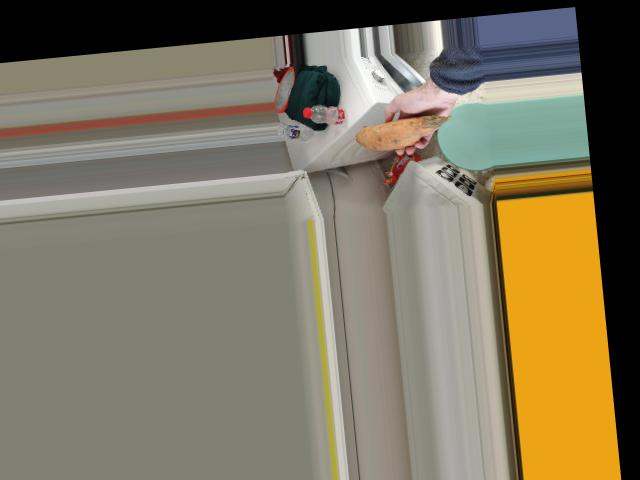sweet_potato: (363, 111, 443, 152)
